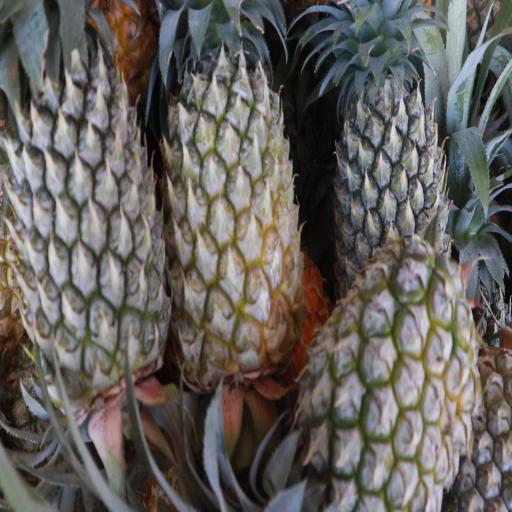------------------------------: (164, 18, 299, 384), (304, 258, 474, 510)
